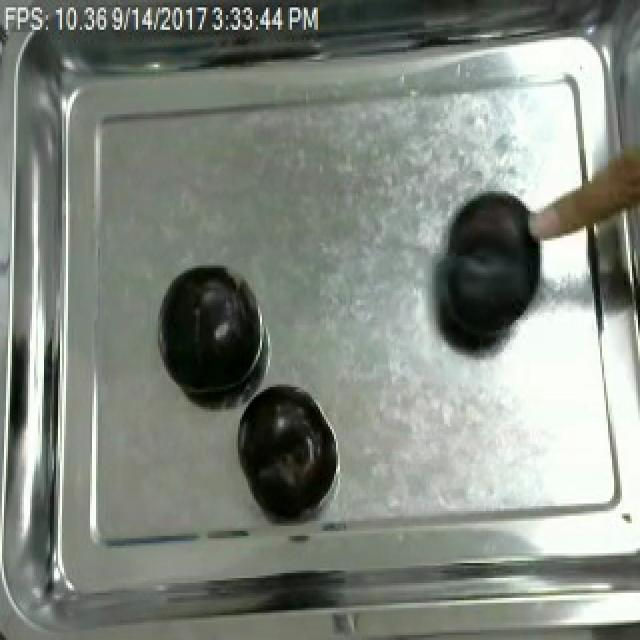Fruit: (426, 179, 552, 357), (154, 260, 260, 402), (234, 382, 336, 518)
